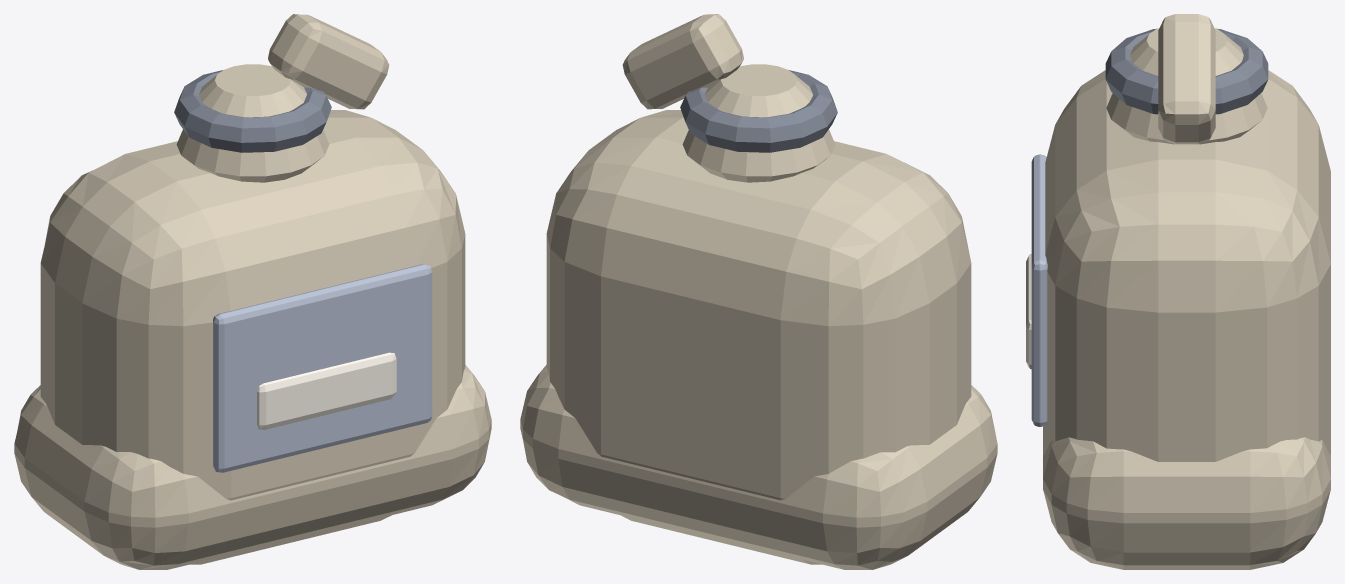
File: sack.glb
The picture shows the model from 3 angles, left to right: view 1: azimuth 30°, elevation 25°; view 2: azimuth 150°, elevation 25°; view 3: azimuth 270°, elevation 25°; orthographic projection. The views are drawn at different scales.
Visible parts, largest first — view 1: sack; view 2: sack; view 3: sack.
Boxes of the visible parts, <box> form: sack: <box>14,14,491,569</box>; sack: <box>520,14,997,569</box>; sack: <box>1026,14,1330,569</box>.
Bounding box in the file's own units: 0.84 × 0.9994 × 0.5295.
